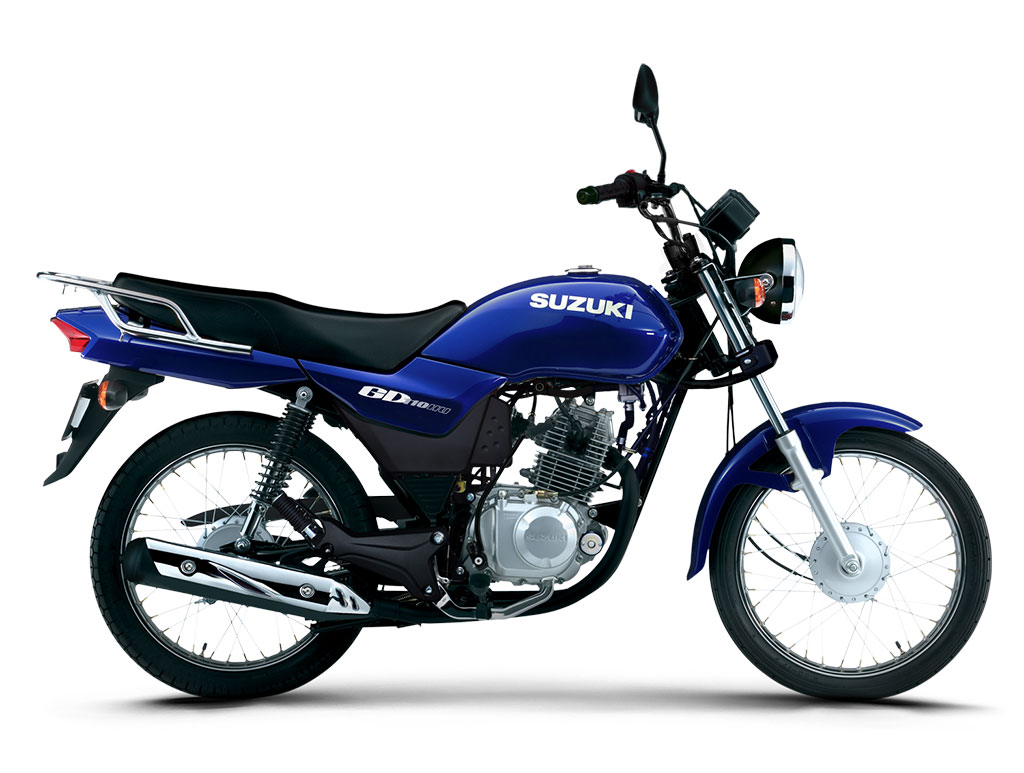motorcycle: (53, 185, 990, 703)
